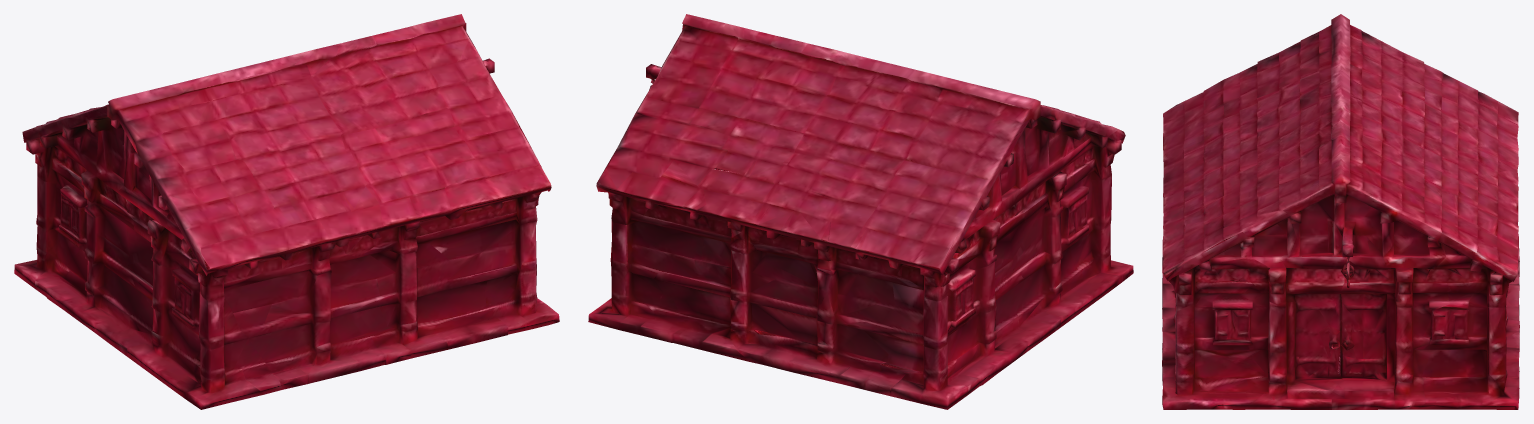
The model's file is storage_red.glb.
3 views of the same model, side by side, from view 1: azimuth 30°, elevation 25°; view 2: azimuth 150°, elevation 25°; view 3: azimuth 270°, elevation 25° (orthographic). The views are drawn at different scales.
Visible parts, largest first — view 1: tripo_node_24466d81-fa95-4b4f-92db-02b134657c26; view 2: tripo_node_24466d81-fa95-4b4f-92db-02b134657c26; view 3: tripo_node_24466d81-fa95-4b4f-92db-02b134657c26.
Boxes of the visible parts, x1,y1,x2,y2 form: tripo_node_24466d81-fa95-4b4f-92db-02b134657c26: (14, 14, 559, 409); tripo_node_24466d81-fa95-4b4f-92db-02b134657c26: (588, 14, 1133, 409); tripo_node_24466d81-fa95-4b4f-92db-02b134657c26: (1162, 14, 1519, 409).
Bounding box in the file's own units: 0.9795 × 0.5803 × 0.8145.
1 material, 1 textured.
